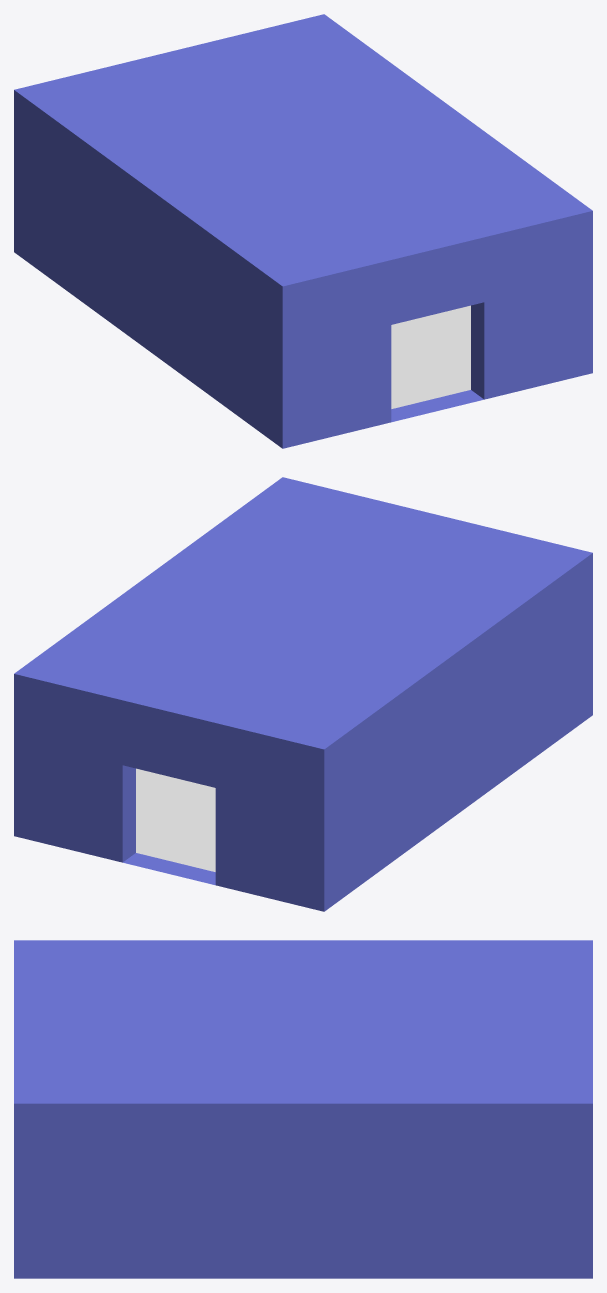
The model's file is EntradaPrincipal.glb.
The picture shows the model from 3 angles, top to bottom: view 1: azimuth 30°, elevation 25°; view 2: azimuth 150°, elevation 25°; view 3: azimuth 270°, elevation 25°; orthographic projection. The views are drawn at different scales.
Visible parts, largest first — view 1: EntradaPrincipal-col; view 2: EntradaPrincipal-col; view 3: EntradaPrincipal-col.
Part boxes in pixels (bbox=[...]): EntradaPrincipal-col: bbox=[14, 14, 592, 448]; EntradaPrincipal-col: bbox=[14, 477, 592, 911]; EntradaPrincipal-col: bbox=[14, 940, 592, 1278].
Bounding box in the file's own units: 10 × 5 × 15.
